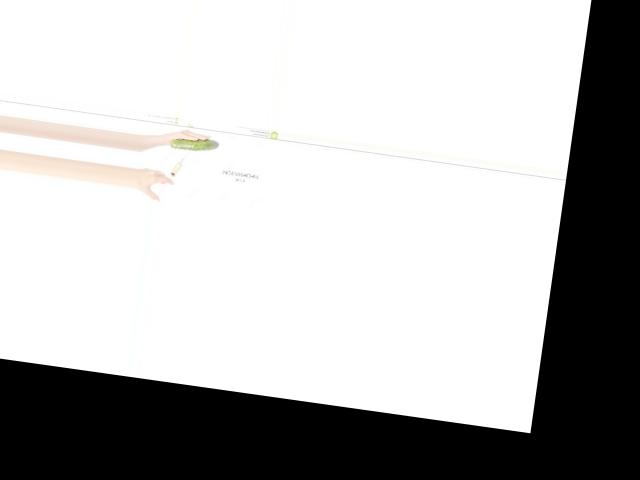cucumber: (169, 134, 219, 153)
